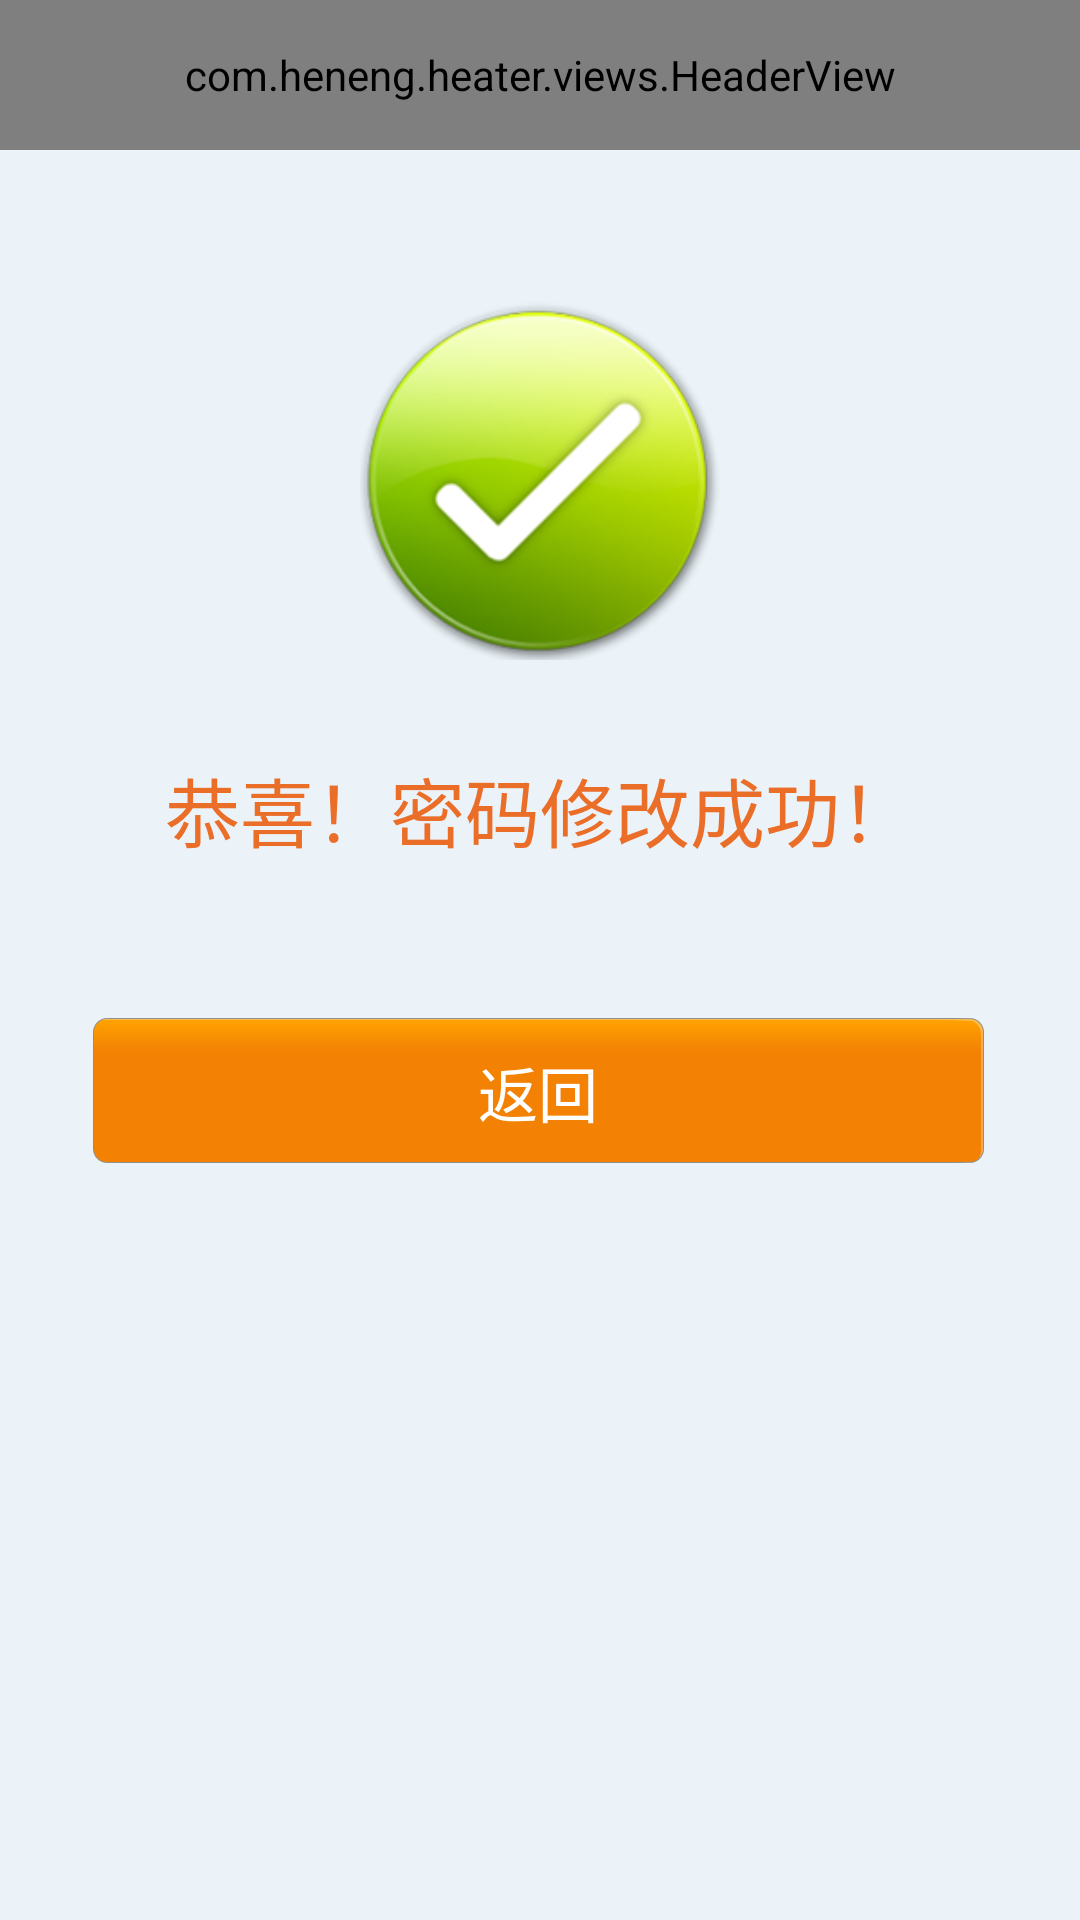

Icon bounding boxes for this 1080w x 1920h phone screenshot, format BBox(x1, y1, x2, y2):
result yes: BBox(364, 309, 715, 660)
